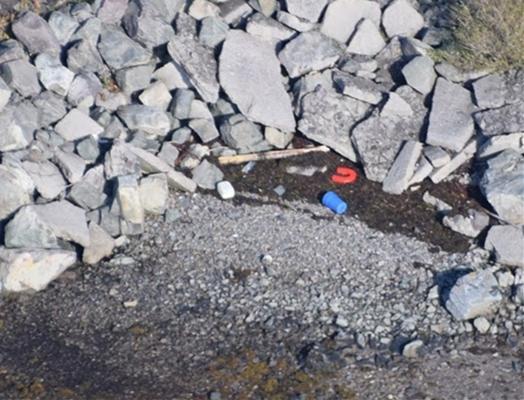scattered_barrel: (211, 159, 360, 216)
straight_bar: (216, 139, 333, 169)
